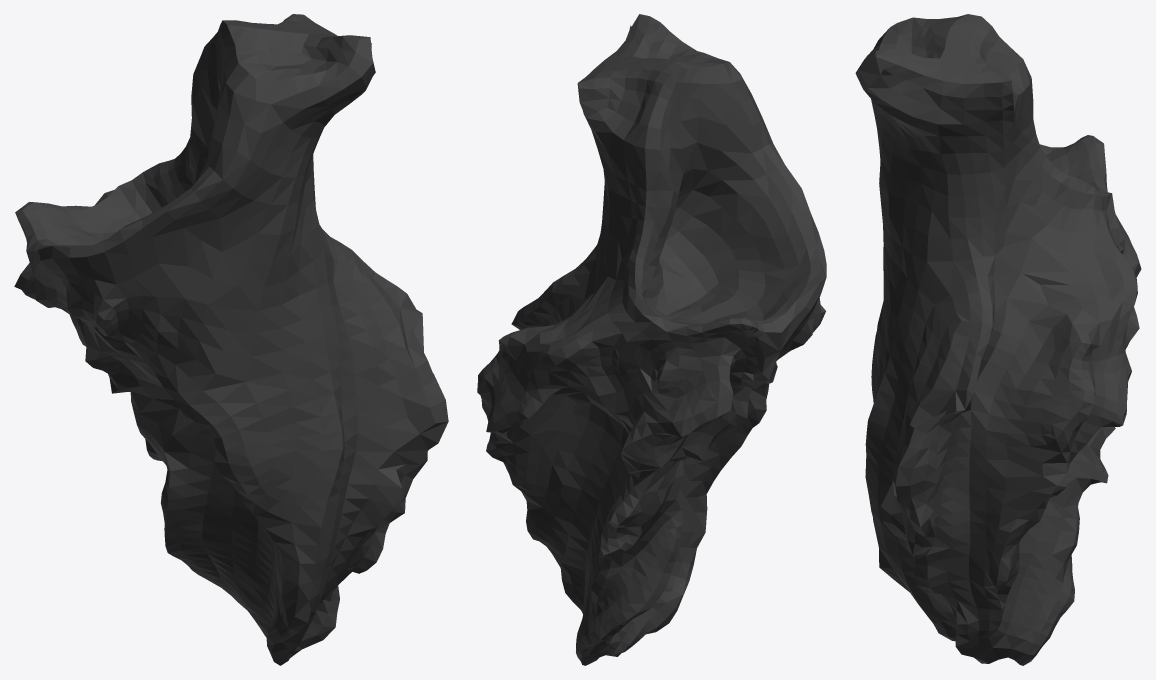
Rendered from L_sided_VENTRICLE.glb.
3 views of the same model, side by side, from view 1: azimuth 30°, elevation 25°; view 2: azimuth 150°, elevation 25°; view 3: azimuth 270°, elevation 25° (orthographic). The views are drawn at different scales.
Visible parts, largest first — view 1: L_sided_VENTRICLE; view 2: L_sided_VENTRICLE; view 3: L_sided_VENTRICLE.
Boxes of the visible parts, x1,y1,x2,y2 form: L_sided_VENTRICLE: (14,14,448,665); L_sided_VENTRICLE: (477,14,826,665); L_sided_VENTRICLE: (855,14,1141,665).
Bounding box in the file's own units: 5.19 × 9.23 × 3.85.
1 material, 1 textured.
